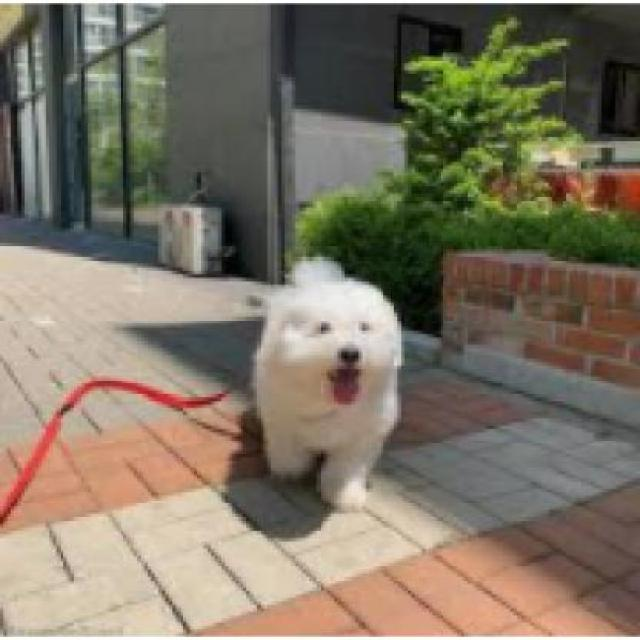Dog: (243, 249, 406, 514)
